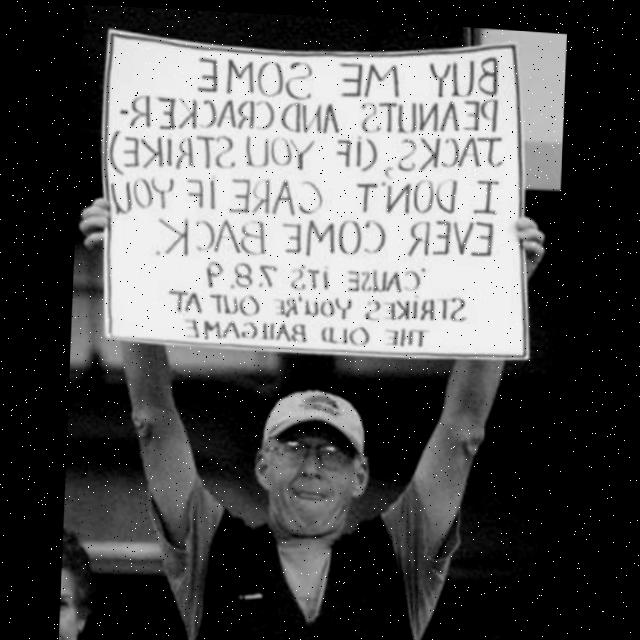face: (238, 406, 371, 541)
